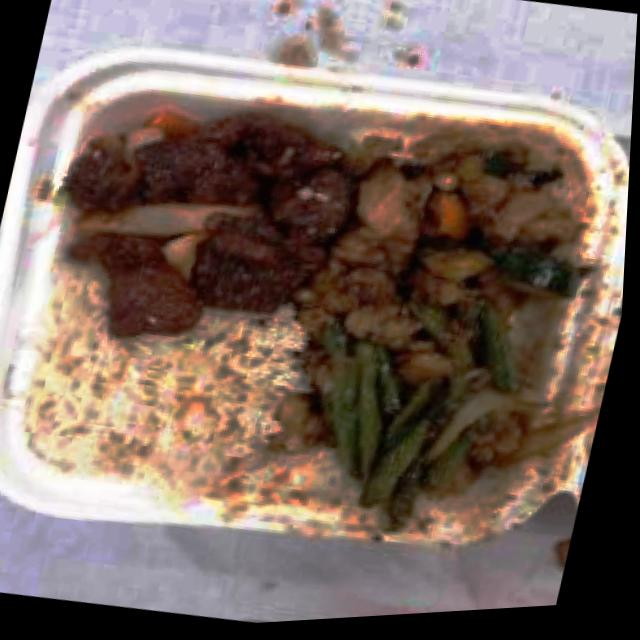Beijing Beef: (52, 75, 365, 363)
Kung Pao Chicken: (315, 118, 587, 366)
String Bean Chicken Breast: (274, 309, 545, 533)
rice: (13, 315, 288, 500)
